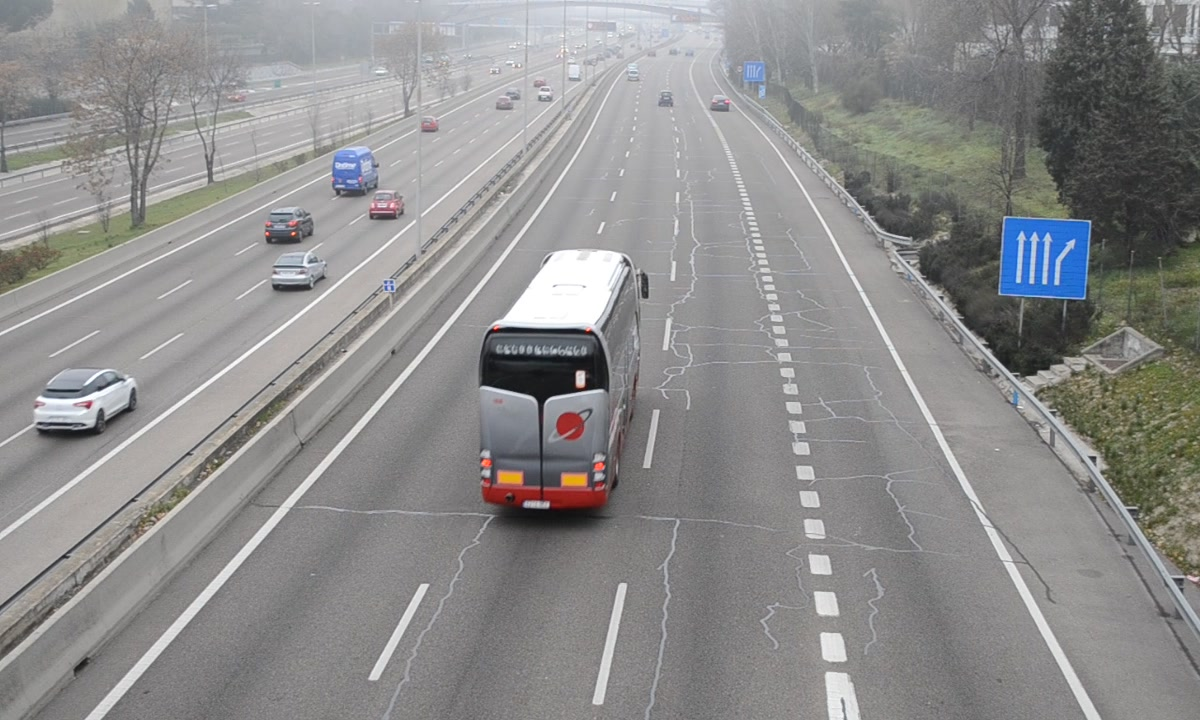bus: (474, 250, 641, 512)
car: (709, 93, 730, 112), (658, 89, 675, 107)
